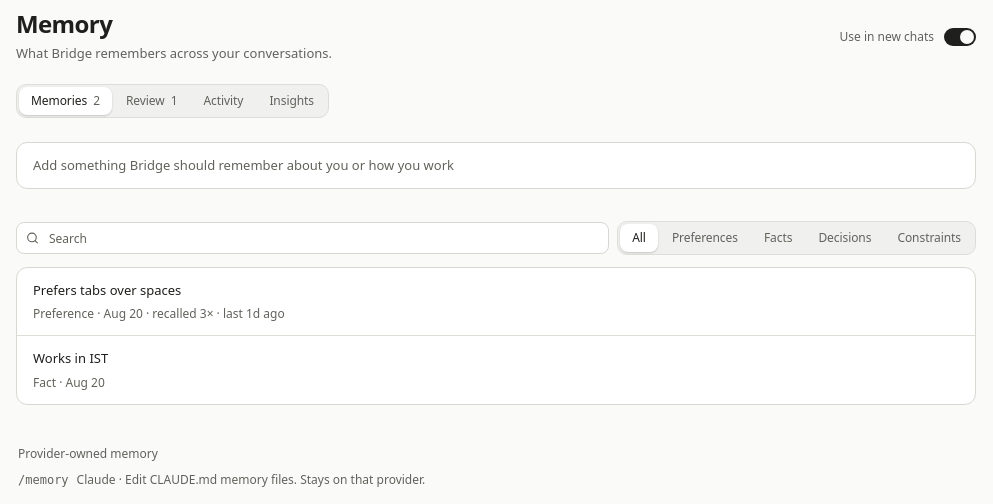
MemoryDialog › kind chips filter client-side, and a second click clears the filter
Click the button "Facts": [778, 238] box left=752, top=224, right=804, bottom=252
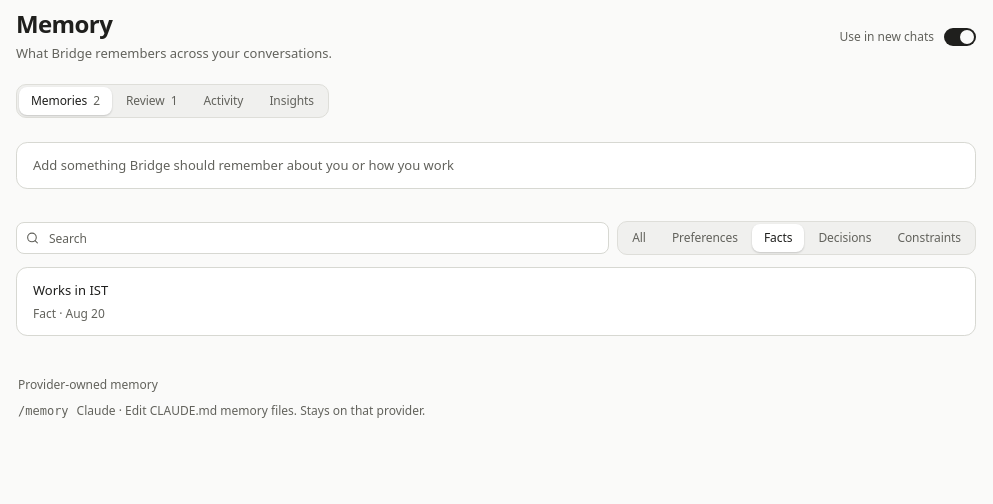
expect the text "Works in IST" is shown: met, box left=33, top=281, right=108, bottom=299
expect the text "Prefers tabs over spaces" is gone: met
Click the button "Facts": [778, 238] box left=752, top=224, right=804, bottom=252
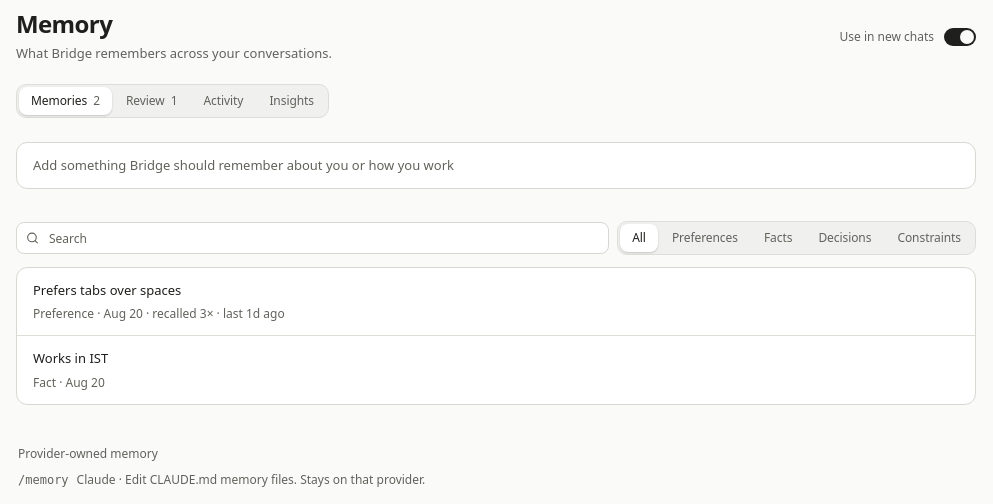
expect the text "Prefers tabs over spaces" is shown: met, box left=33, top=281, right=181, bottom=299
